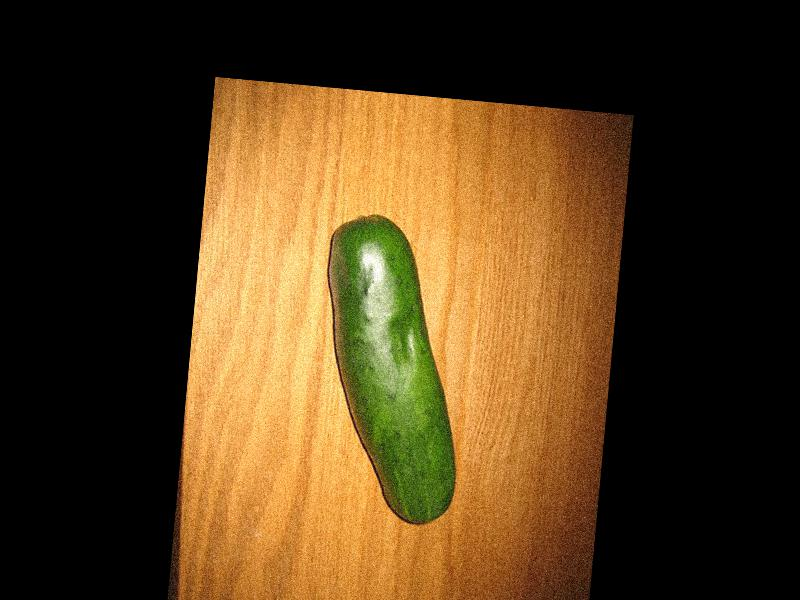Cucumber: (305, 215, 476, 528)
